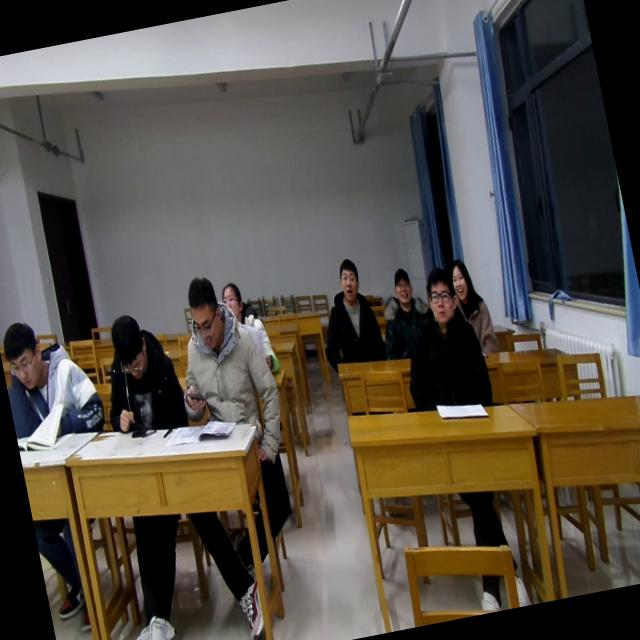bow: (0, 308, 109, 453)
down: (179, 270, 229, 356), (0, 312, 50, 397), (104, 306, 154, 388)
lookup: (420, 264, 460, 332), (330, 252, 368, 304), (444, 254, 478, 306), (386, 262, 418, 308), (217, 276, 247, 320)
sit: (157, 266, 280, 431), (387, 263, 496, 421), (89, 305, 190, 436), (306, 251, 388, 373), (218, 276, 284, 382), (372, 264, 438, 364), (444, 253, 501, 359)
